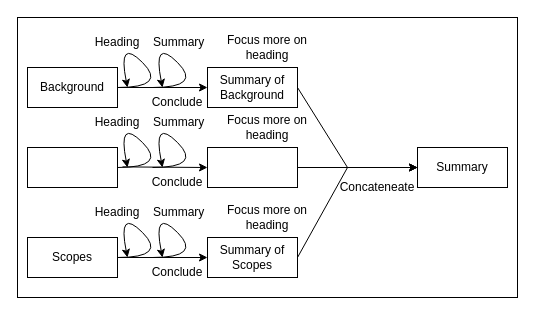
The diagram is 535 pixels wide and 315 high, and some of its shapes have lost their labels. The centre of each missing label's shape, as x and y in pixels:
Objectives: the point at 72,167
Summary of Objectives: the point at 252,167
